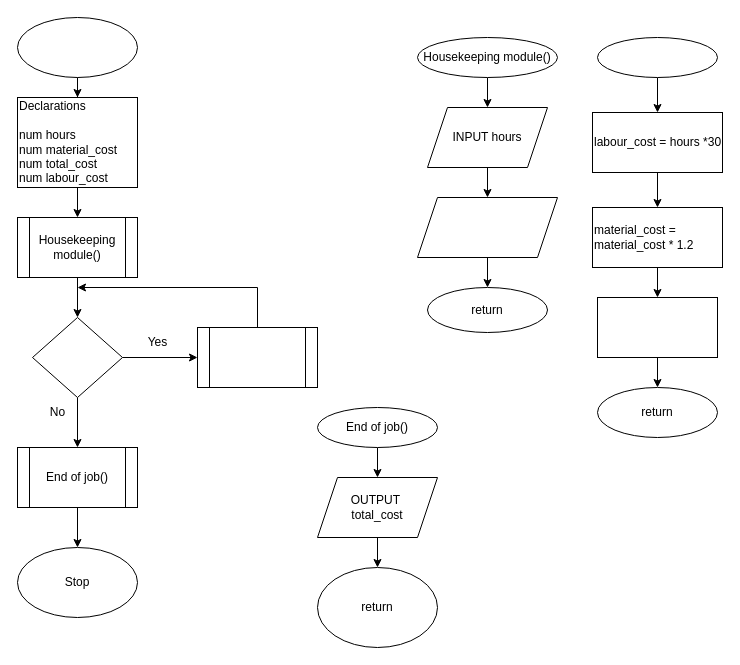
This 740x665 diagram has some shape labels left out. The box of each missing label's shape, as (x1, y1, x2, y2) in pixels:
Deatail loop(): (596, 36, 718, 78)
Detail loop(): (196, 326, 318, 388)
if hours>0: (32, 316, 122, 398)
INPUT material_cost: (416, 196, 558, 258)
Start: (16, 16, 138, 78)
total_cost = material_cost + labour_cost: (596, 296, 718, 358)
